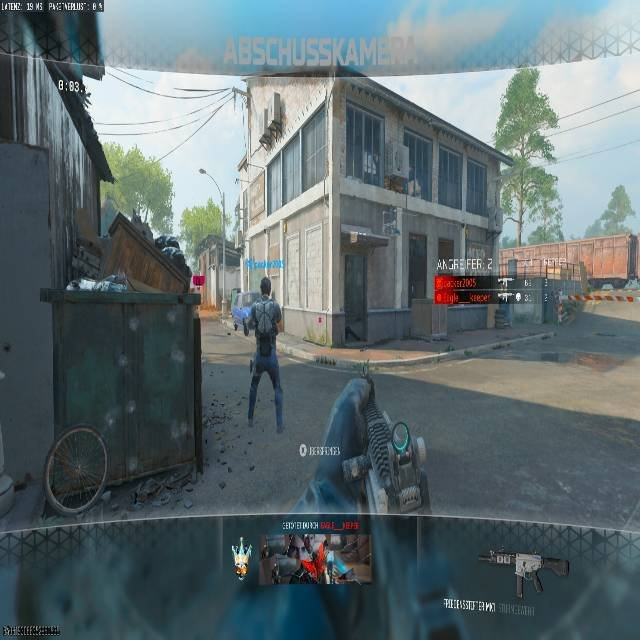head: (260, 278, 272, 296)
player: (242, 277, 285, 432), (558, 294, 577, 326)
